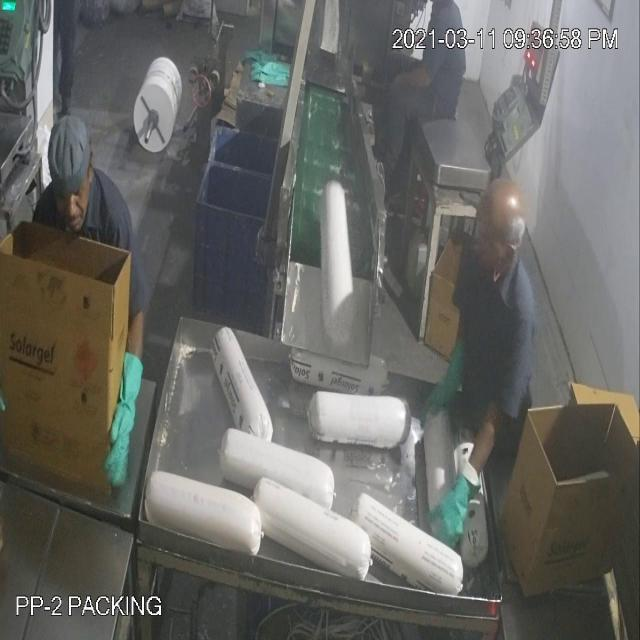No_Gloves: (385, 42, 441, 98)
